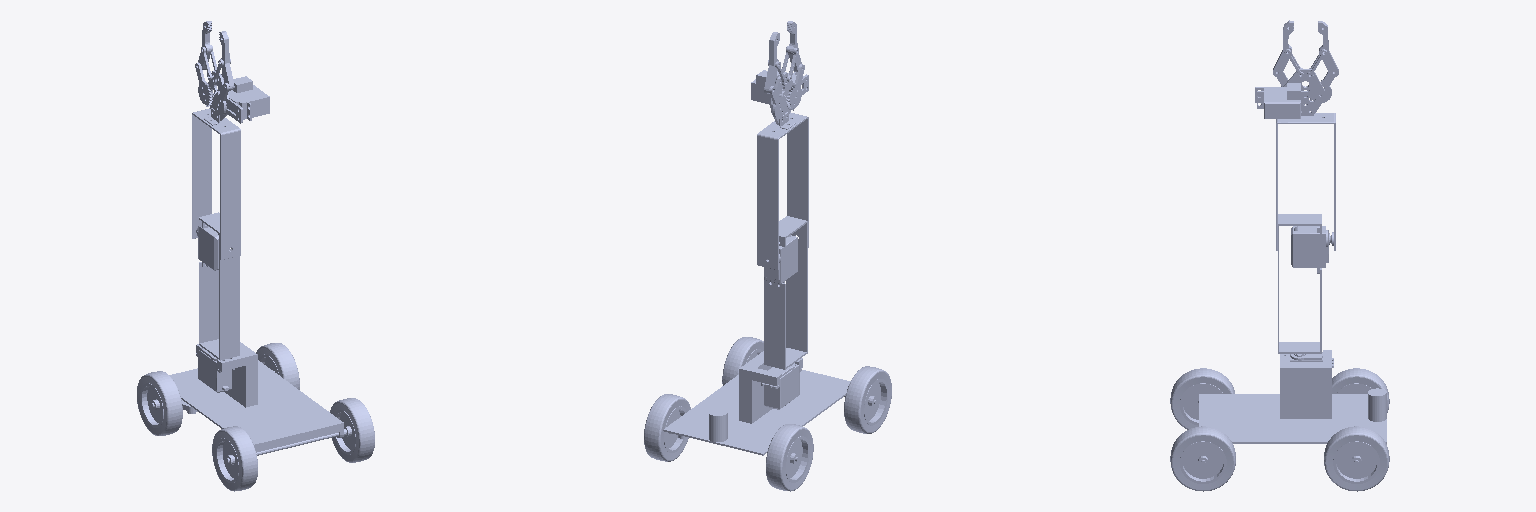
robot.urdf — tk8:
<?xml version="1.0" encoding="utf-8"?>
<!-- This URDF was automatically created by SolidWorks to URDF Exporter! Originally created by [author] ([email redacted]) 
     Commit Version: 1.6.0-4-g7f85cfe  Build Version: 1.6.7995.38578
     For more information, please see http://wiki.ros.org/sw_urdf_exporter -->
<robot
  name="tk8">
  <link
    name="base_link">
    <inertial>
      <origin
        xyz="-0.00557264023375181 -0.0960602615045691 0.0594169936927835"
        rpy="0 0 0" />
      <mass
        value="0.190548593408447" />
      <inertia
        ixx="0.000412726597714719"
        ixy="2.90219947110223E-06"
        ixz="9.47643877840415E-06"
        iyy="0.000171360224234566"
        iyz="-1.29717645091752E-05"
        izz="0.000480531579802367" />
    </inertial>
    <visual>
      <origin
        xyz="0 0 0"
        rpy="0 0 0" />
      <geometry>
        <mesh
          filename="package://tk8/meshes/base_link.STL" />
      </geometry>
      <material
        name="">
        <color
          rgba="0.792156862745098 0.819607843137255 0.933333333333333 1" />
      </material>
    </visual>
    <collision>
      <origin
        xyz="0 0 0"
        rpy="0 0 0" />
      <geometry>
        <mesh
          filename="package://tk8/meshes/base_link.STL" />
      </geometry>
    </collision>
  </link>
  <link
    name="lidar_link">
    <inertial>
      <origin
        xyz="0 0 0.015"
        rpy="0 0 0" />
      <mass
        value="0.00942477796076938" />
      <inertia
        ixx="9.42477796076938E-07"
        ixy="-1.67504074041988E-23"
        ixz="-4.8503981591486E-25"
        iyy="9.42477796076938E-07"
        iyz="2.87319053451299E-23"
        izz="4.71238898038469E-07" />
    </inertial>
    <visual>
      <origin
        xyz="0 0 0"
        rpy="0 0 0" />
      <geometry>
        <mesh
          filename="package://tk8/meshes/lidar_link.STL" />
      </geometry>
      <material
        name="">
        <color
          rgba="0.792156862745098 0.819607843137255 0.933333333333333 1" />
      </material>
    </visual>
    <collision>
      <origin
        xyz="0 0 0"
        rpy="0 0 0" />
      <geometry>
        <mesh
          filename="package://tk8/meshes/lidar_link.STL" />
      </geometry>
    </collision>
  </link>
  <joint
    name="lidar_joint"
    type="fixed">
    <origin
      xyz="0.0023927 -0.01 0.045791"
      rpy="0 0 0" />
    <parent
      link="base_link" />
    <child
      link="lidar_link" />
    <axis
      xyz="0 0 0" />
  </joint>
  <link
    name="base_servo_link">
    <inertial>
      <origin
        xyz="-8.47575481862928E-05 0.00613867182062955 0.101645028379344"
        rpy="0 0 0" />
      <mass
        value="0.049853330030012" />
      <inertia
        ixx="6.4016554545644E-05"
        ixy="7.01744999482795E-09"
        ixz="-2.86201077983955E-09"
        iyy="5.4721785623129E-05"
        iyz="2.3438670066473E-06"
        izz="1.31872815085554E-05" />
    </inertial>
    <visual>
      <origin
        xyz="0 0 0"
        rpy="0 0 0" />
      <geometry>
        <mesh
          filename="package://tk8/meshes/base_servo_link.STL" />
      </geometry>
      <material
        name="">
        <color
          rgba="0.792156862745098 0.819607843137255 0.933333333333333 1" />
      </material>
    </visual>
    <collision>
      <origin
        xyz="0 0 0"
        rpy="0 0 0" />
      <geometry>
        <mesh
          filename="package://tk8/meshes/base_servo_link.STL" />
      </geometry>
    </collision>
  </link>
  <joint
    name="base_servo_joint"
    type="revolute">
    <origin
      xyz="-0.031274 -0.092587 0.11109"
      rpy="0 0 0" />
    <parent
      link="base_link" />
    <child
      link="base_servo_link" />
    <axis
      xyz="0 0 -1" />
    <limit
      lower="0"
      upper="3.1416"
      effort="1"
      velocity="1.5" />
  </joint>
  <link
    name="end_servo_link">
    <inertial>
      <origin
        xyz="0.0101511961259593 -0.151372068018228 -0.0443008415059337"
        rpy="0 0 0" />
      <mass
        value="0.0688297822617074" />
      <inertia
        ixx="6.90250226109047E-05"
        ixy="3.07495280191079E-09"
        ixz="1.10510643833784E-07"
        iyy="2.75247334453785E-05"
        iyz="1.54874314690935E-08"
        izz="5.21114000536643E-05" />
    </inertial>
    <visual>
      <origin
        xyz="0 0 0"
        rpy="0 0 0" />
      <geometry>
        <mesh
          filename="package://tk8/meshes/end_servo_link.STL" />
      </geometry>
      <material
        name="">
        <color
          rgba="0.792156862745098 0.819607843137255 0.933333333333333 1" />
      </material>
    </visual>
    <collision>
      <origin
        xyz="0 0 0"
        rpy="0 0 0" />
      <geometry>
        <mesh
          filename="package://tk8/meshes/end_servo_link.STL" />
      </geometry>
    </collision>
  </link>
  <joint
    name="end_servo_joint"
    type="revolute">
    <origin
      xyz="-0.00015257 0.03865 0.12837"
      rpy="-1.5708 0 0.00071232" />
    <parent
      link="base_servo_link" />
    <child
      link="end_servo_link" />
    <axis
      xyz="0 0 -1" />
    <limit
      lower="0"
      upper="3.1416"
      effort="1"
      velocity="1.5" />
  </joint>
  <link
    name="camera_link">
    <inertial>
      <origin
        xyz="1.04083408558608E-17 0.00750000000000001 0.00499999999999995"
        rpy="0 0 0" />
      <mass
        value="0.003" />
      <inertia
        ixx="8.12500000000001E-08"
        ixy="1.32155027552417E-23"
        ixz="-3.04239115936089E-24"
        iyy="1.25E-07"
        iyz="6.22513727755269E-24"
        izz="1.5625E-07" />
    </inertial>
    <visual>
      <origin
        xyz="0 0 0"
        rpy="0 0 0" />
      <geometry>
        <mesh
          filename="package://tk8/meshes/camera_link.STL" />
      </geometry>
      <material
        name="">
        <color
          rgba="0.792156862745098 0.819607843137255 0.933333333333333 1" />
      </material>
    </visual>
    <collision>
      <origin
        xyz="0 0 0"
        rpy="0 0 0" />
      <geometry>
        <mesh
          filename="package://tk8/meshes/camera_link.STL" />
      </geometry>
    </collision>
  </link>
  <joint
    name="camera_joint"
    type="fixed">
    <origin
      xyz="0.0245 -0.1798 -0.051983"
      rpy="1.5708 0 0" />
    <parent
      link="end_servo_link" />
    <child
      link="camera_link" />
    <axis
      xyz="0 0 0" />
  </joint>
  <link
    name="fr_link">
    <inertial>
      <origin
        xyz="-6.93889390390723E-18 -1.38777878078145E-17 0.00800000000000001"
        rpy="0 0 0" />
      <mass
        value="0.0537442846179065" />
      <inertia
        ixx="2.10387038973688E-05"
        ixy="-6.28700750966174E-22"
        ixz="-1.83048962780235E-20"
        iyy="2.10387038973688E-05"
        iyz="-3.57488326971055E-21"
        izz="3.92583949923622E-05" />
    </inertial>
    <visual>
      <origin
        xyz="0 0 0"
        rpy="0 0 0" />
      <geometry>
        <mesh
          filename="package://tk8/meshes/fr_link.STL" />
      </geometry>
      <material
        name="">
        <color
          rgba="0.792156862745098 0.819607843137255 0.933333333333333 1" />
      </material>
    </visual>
    <collision>
      <origin
        xyz="0 0 0"
        rpy="0 0 0" />
      <geometry>
        <mesh
          filename="package://tk8/meshes/fr_link.STL" />
      </geometry>
    </collision>
  </link>
  <joint
    name="fr_joint"
    type="continuous">
    <origin
      xyz="0.083303 -0.032 0.031791"
      rpy="1.5708 0 -1.5708" />
    <parent
      link="base_link" />
    <child
      link="fr_link" />
    <axis
      xyz="0 0 1" />
    <dynamics
      friction="0.4" />
  </joint>
  <link
    name="fl_link">
    <inertial>
      <origin
        xyz="6.93889390390723E-18 0 -0.00799999999999999"
        rpy="0 0 0" />
      <mass
        value="0.0537442846179064" />
      <inertia
        ixx="2.10387038973689E-05"
        ixy="-1.09944721888074E-21"
        ixz="-3.45402768691346E-20"
        iyy="2.10387038973689E-05"
        iyz="-1.96883662322011E-21"
        izz="3.92583949923622E-05" />
    </inertial>
    <visual>
      <origin
        xyz="0 0 0"
        rpy="0 0 0" />
      <geometry>
        <mesh
          filename="package://tk8/meshes/fl_link.STL" />
      </geometry>
      <material
        name="">
        <color
          rgba="0.792156862745098 0.819607843137255 0.933333333333333 1" />
      </material>
    </visual>
    <collision>
      <origin
        xyz="0 0 0"
        rpy="0 0 0" />
      <geometry>
        <mesh
          filename="package://tk8/meshes/fl_link.STL" />
      </geometry>
    </collision>
  </link>
  <joint
    name="fl_joint"
    type="continuous">
    <origin
      xyz="-0.078697 -0.032 0.031791"
      rpy="1.5708 0 -1.5708" />
    <parent
      link="base_link" />
    <child
      link="fl_link" />
    <axis
      xyz="0 0 1" />
    <dynamics
      friction="0.4" />
  </joint>
  <link
    name="br_link">
    <inertial>
      <origin
        xyz="0 0 -0.00799999999999999"
        rpy="0 0 0" />
      <mass
        value="0.0537442846179064" />
      <inertia
        ixx="2.10387038973688E-05"
        ixy="-1.60642780418055E-21"
        ixz="-3.28394518881952E-21"
        iyy="2.10387038973688E-05"
        iyz="1.10664150354249E-20"
        izz="3.92583949923622E-05" />
    </inertial>
    <visual>
      <origin
        xyz="0 0 0"
        rpy="0 0 0" />
      <geometry>
        <mesh
          filename="package://tk8/meshes/br_link.STL" />
      </geometry>
      <material
        name="">
        <color
          rgba="0.792156862745098 0.819607843137255 0.933333333333333 1" />
      </material>
    </visual>
    <collision>
      <origin
        xyz="0 0 0"
        rpy="0 0 0" />
      <geometry>
        <mesh
          filename="package://tk8/meshes/br_link.STL" />
      </geometry>
    </collision>
  </link>
  <joint
    name="br_joint"
    type="continuous">
    <origin
      xyz="0.083303 -0.195 0.031791"
      rpy="1.5708 0 1.5708" />
    <parent
      link="base_link" />
    <child
      link="br_link" />
    <axis
      xyz="0 0 -1" />
  </joint>
  <link
    name="bl_link">
    <inertial>
      <origin
        xyz="0 1.38777878078145E-17 0.00799999999999999"
        rpy="0 0 0" />
      <mass
        value="0.0537442846179065" />
      <inertia
        ixx="2.10387038973688E-05"
        ixy="-2.60648057527438E-26"
        ixz="-1.50439790380108E-21"
        iyy="2.10387038973688E-05"
        iyz="8.71567729324998E-21"
        izz="3.92583949923622E-05" />
    </inertial>
    <visual>
      <origin
        xyz="0 0 0"
        rpy="0 0 0" />
      <geometry>
        <mesh
          filename="package://tk8/meshes/bl_link.STL" />
      </geometry>
      <material
        name="">
        <color
          rgba="0.792156862745098 0.819607843137255 0.933333333333333 1" />
      </material>
    </visual>
    <collision>
      <origin
        xyz="0 0 0"
        rpy="0 0 0" />
      <geometry>
        <mesh
          filename="package://tk8/meshes/bl_link.STL" />
      </geometry>
    </collision>
  </link>
  <joint
    name="bl_joint"
    type="continuous">
    <origin
      xyz="-0.078697 -0.195 0.031791"
      rpy="1.5708 0 1.5708" />
    <parent
      link="base_link" />
    <child
      link="bl_link" />
    <axis
      xyz="0 0 -1" />
  </joint>

  <transmission name="base_servo_transmission">
    <type>transmission_interface/SimpleTransmission</type>
    <joint name="base_servo_joint">
      <hardwareInterface>hardware_interface/PositionJointInterface</hardwareInterface>
    </joint>
    <actuator name="base_servo_motor">
      <mechanicalReduction>1</mechanicalReduction>
    </actuator>
  </transmission>

  <transmission name="end_servo_transmission">
    <type>transmission_interface/SimpleTransmission</type>
    <joint name="end_servo_joint">
      <hardwareInterface>hardware_interface/PositionJointInterface</hardwareInterface>
    </joint>
    <actuator name="end_servo_motor">
      <mechanicalReduction>1</mechanicalReduction>
    </actuator>
  </transmission>

  <!-- Camera Plugin -->
  <gazebo reference="camera_link">
    <sensor type="camera" name="camera1">
      <pose>0 0 0 0 0 0</pose>  
      <update_rate>30.0</update_rate>
      <camera name="head">
        <horizontal_fov>1.3962634</horizontal_fov>
        <image>
          <width>800</width>
          <height>800</height>
          <format>R8G8B8</format>
        </image>
        <clip>
          <near>0.02</near>
          <far>300</far>
        </clip>
        <noise>
          <type>gaussian</type>
          <mean>0.0</mean>
          <stddev>0.007</stddev>
        </noise>
      </camera>
      <plugin name="camera_controller" filename="libgazebo_ros_camera.so">
        <alwaysOn>true</alwaysOn>
        <updateRate>0.0</updateRate>
        <cameraName>rrbot/camera1</cameraName>
        <imageTopicName>image_raw</imageTopicName>
        <cameraInfoTopicName>camera_info</cameraInfoTopicName>
        <frameName>camera_link</frameName>
        <hackBaseline>0.07</hackBaseline>
        <distortionK1>0.0</distortionK1>
        <distortionK2>0.0</distortionK2>
        <distortionK3>0.0</distortionK3>
        <distortionT1>0.0</distortionT1>
        <distortionT2>0.0</distortionT2>
      </plugin>
    </sensor>
  </gazebo>

  <!-- Lidar Plugin -->
  <gazebo reference="lidar_link">
    <material>Gazebo/Black</material>
    <sensor type="ray" name="lidar_sensor">
      <pose>0 0 0 0 0 0</pose>
      <visualize>true</visualize>
      <update_rate>10</update_rate>
      <ray>
        <scan>
          <horizontal>
            <samples>360</samples>
            <resolution>1</resolution>
            <min_angle>0</min_angle>
            <max_angle>3.14</max_angle>
          </horizontal>
        </scan>
        <range>
          <min>0.1</min>
          <max>12.0</max>
          <resolution>0.01</resolution>
        </range>
        <noise>
          <type>gaussian</type>
          <mean>0.0</mean>
          <stddev>0.01</stddev>
        </noise>
      </ray>
      <plugin name="lidar_controller" filename="libgazebo_ros_laser.so">
        <topicName>scan</topicName>
        <frameName>lidar_link</frameName>
      </plugin>
    </sensor>
  </gazebo>

  <gazebo>  <!-- Block 1 Start: Diff Drive -->
    <plugin name="gazebo_ros_diff_drive" filename="libgazebo_ros_diff_drive.so">
      <commandTopic>cmd_vel</commandTopic>
      <odometryTopic>odom</odometryTopic>
      <odometryFrame>odom</odometryFrame>
      <odometrySource>world</odometrySource>
      <publishOdomTF>true</publishOdomTF>
      <publishWheelTF>false</publishWheelTF>
      <publishTf>true</publishTf>
      <publishWheelJointState>true</publishWheelJointState>
      <legacyMode>false</legacyMode>
      <updateRate>30</updateRate>
      <leftJoint>fl_joint</leftJoint>
      <rightJoint>fr_joint</rightJoint>
      <wheelSeparation>0.166</wheelSeparation>
      <wheelDiameter>0.07</wheelDiameter>
      <robotBaseFrame>base_link</robotBaseFrame>
      <wheelAcceleration>1</wheelAcceleration>
      <wheelTorque>10</wheelTorque>
      <rosDebugLevel>na</rosDebugLevel>
    </plugin>
  </gazebo>  <!-- Block 1 End -->

  <!-- The extra closing tag that was here has been removed -->

  <gazebo>  <!-- Block 2 Start: ROS Control -->
    <plugin name="gazebo_ros_control" filename="libgazebo_ros_control.so">
      <robotSimType>gazebo_ros_control/DefaultRobotHWSim</robotSimType>
      <legacyModeNS>true</legacyModeNS>
    </plugin>
  </gazebo>  <!-- Block 2 End -->
</robot>

--- Facts derived from the render (not from the file) ---
3 views of the same robot in one strip: view 1: azimuth 30°, elevation 25°; view 2: azimuth 150°, elevation 25°; view 3: azimuth 270°, elevation 25° (orthographic).
Model tk8 with 9 links and 8 joints (2 revolute, 4 continuous, 2 fixed), rooted at base_link, posed all joints at 0.
Visible links, largest first — view 1: base_link, end_servo_link, base_servo_link, bl_link, fl_link, br_link, fr_link; view 2: base_link, end_servo_link, base_servo_link, bl_link, fl_link, fr_link, br_link, lidar_link; view 3: base_link, end_servo_link, br_link, fr_link, base_servo_link, bl_link, fl_link, lidar_link.
Boxes of the visible links, box(x1,y1,x2,y2) form: base_link: box(151, 342, 346, 462); end_servo_link: box(192, 21, 269, 259); base_servo_link: box(197, 212, 239, 360); bl_link: box(212, 426, 257, 491); fl_link: box(137, 371, 182, 435); br_link: box(330, 398, 374, 462); fr_link: box(256, 343, 299, 389); base_link: box(663, 351, 877, 461); end_servo_link: box(751, 21, 808, 269); base_servo_link: box(764, 216, 807, 369); bl_link: box(844, 366, 891, 433); fl_link: box(766, 424, 813, 491); fr_link: box(644, 394, 690, 461); br_link: box(722, 337, 763, 385); lidar_link: box(709, 408, 727, 441); base_link: box(1199, 350, 1386, 464); end_servo_link: box(1255, 20, 1338, 250); br_link: box(1170, 426, 1235, 491); fr_link: box(1324, 426, 1389, 491); base_servo_link: box(1278, 214, 1329, 353); bl_link: box(1170, 368, 1234, 429); fl_link: box(1332, 368, 1389, 412); lidar_link: box(1368, 388, 1386, 421).
Bounding box of the posed robot: 0.166 × 0.2329 × 0.4976 m (x, y, z).
9 mesh visuals loaded from 9 distinct referenced files (9 binary STL).
